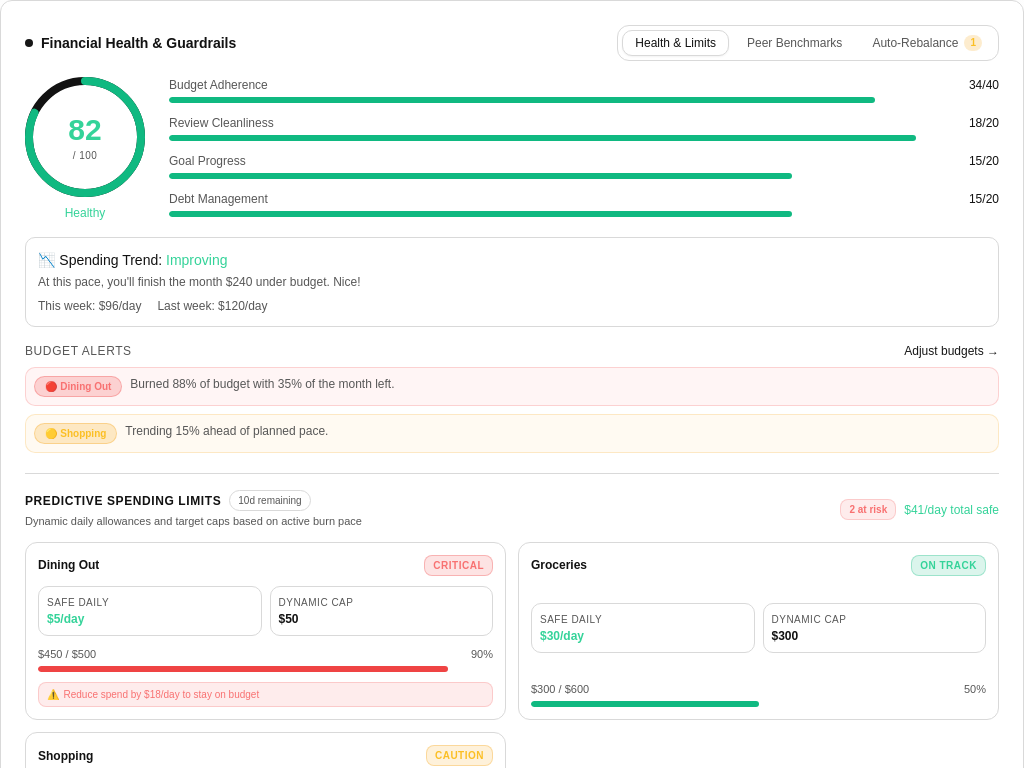
Test: BudgetHealthCard Component › does not display a fallback cohort or alignment when peer metadata is missing
Click the button with test id "btn-tab-peer-benchmarks" at (795, 43), box [735,31,854,55]
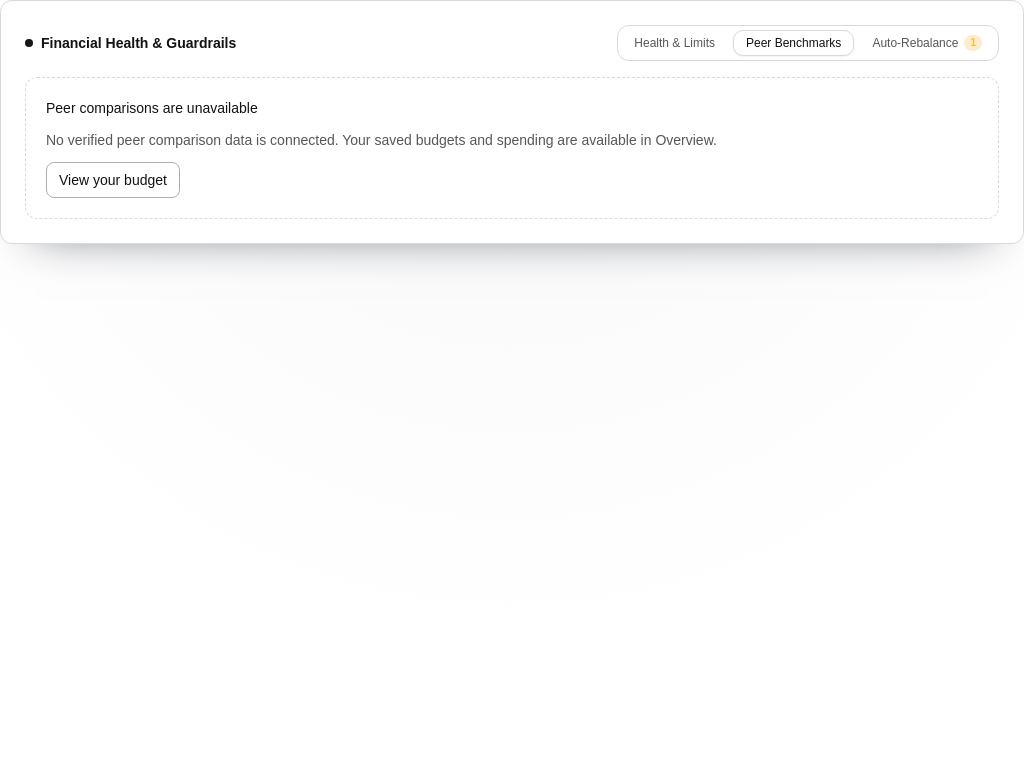
Expected: the message with test id "peer-benchmarks-unavailable" is shown, [25,77,999,219]
